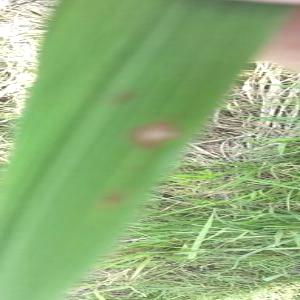1 RiceBlast: (121, 105, 193, 154)
